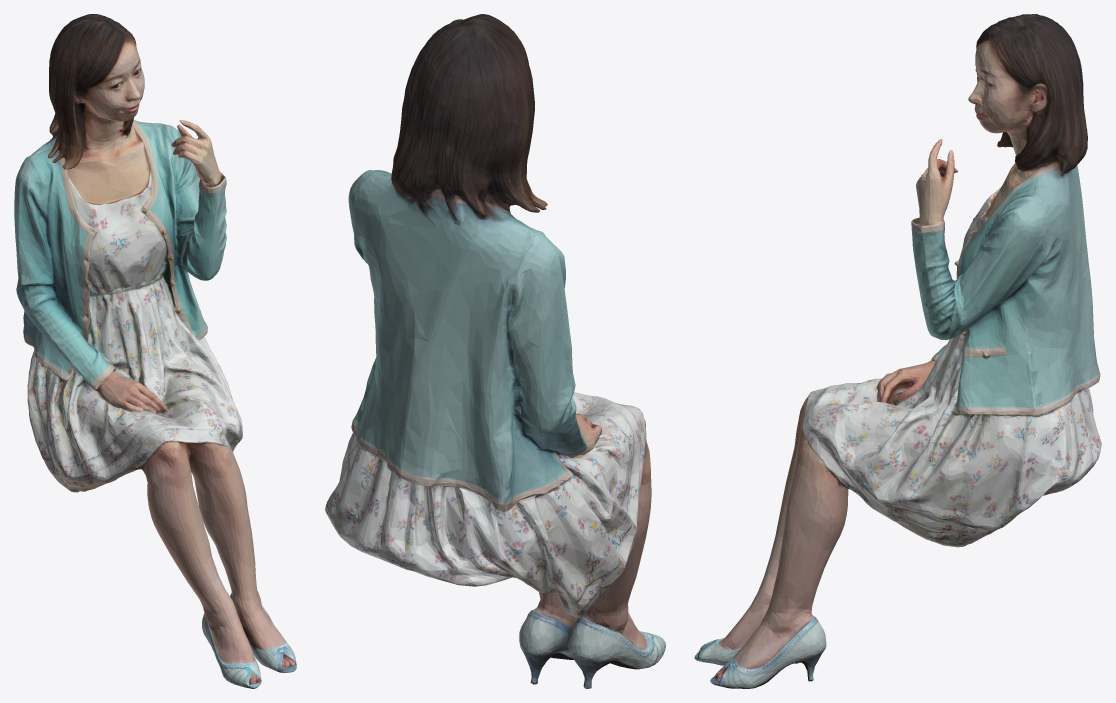
File: 091_W_Aya_30K.obj
3 views of the same model, side by side, from view 1: azimuth 30°, elevation 25°; view 2: azimuth 150°, elevation 25°; view 3: azimuth 270°, elevation 25° (orthographic). The views are drawn at different scales.
Visible parts, largest first — view 1: 091_W_Aya_30K_01; view 2: 091_W_Aya_30K_01; view 3: 091_W_Aya_30K_01.
Part boxes in pixels (x1,y1,x2,y2): 091_W_Aya_30K_01: (14,14,296,688); 091_W_Aya_30K_01: (325,14,665,688); 091_W_Aya_30K_01: (694,14,1101,688).
Bounding box in the file's own units: 424 × 1319 × 767.
1 material, 1 textured.
